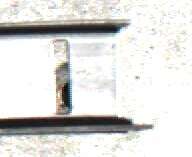40ngpress: (18, 20, 145, 132)
